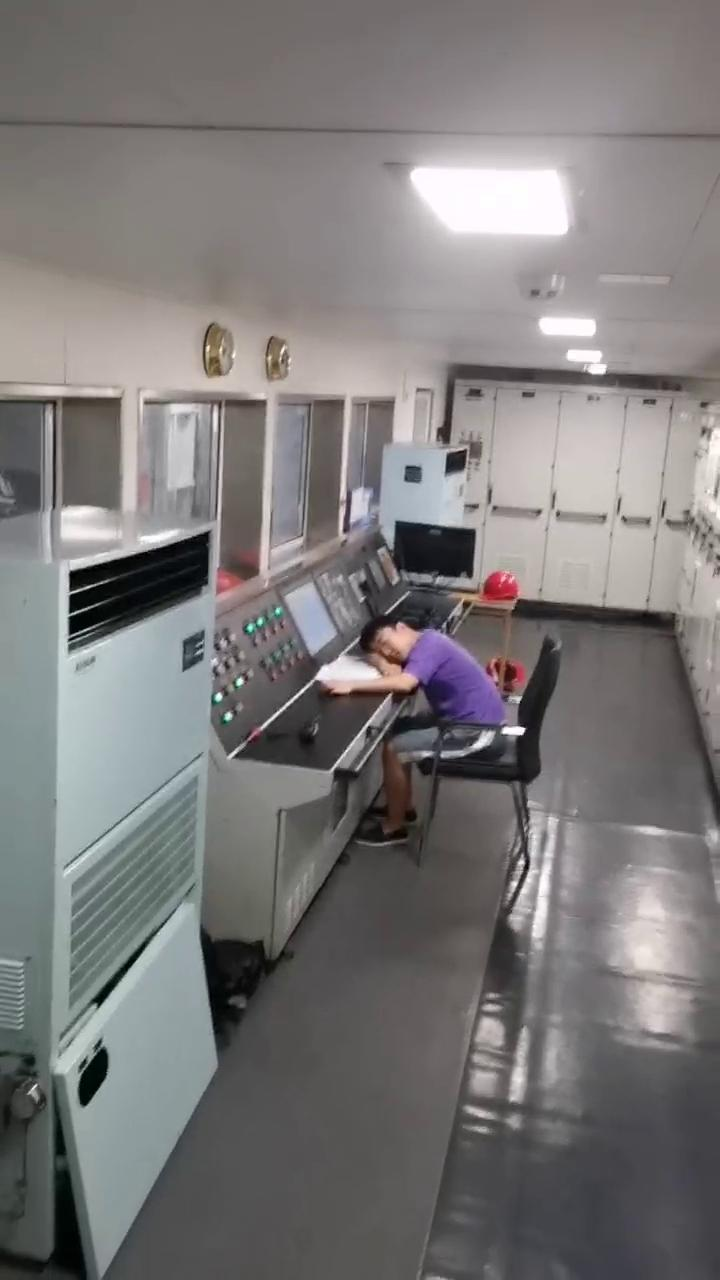sleep: (321, 624, 503, 758)
